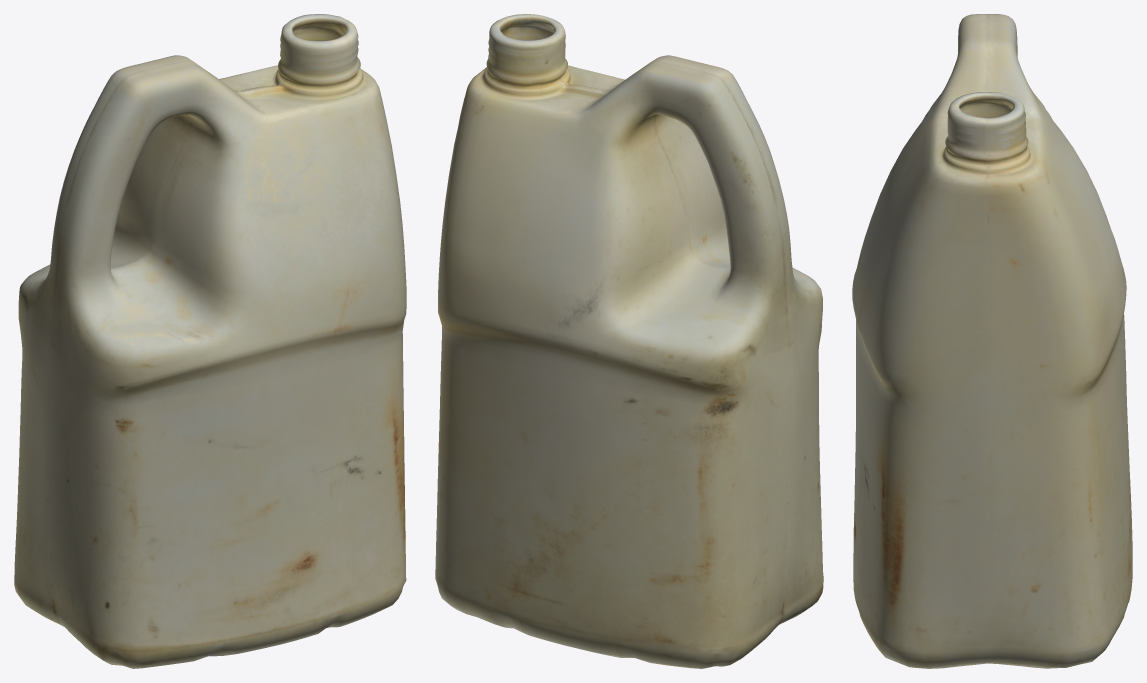
File: plastic_bottle_gallon.glb
3 views of the same model, side by side, from view 1: azimuth 30°, elevation 25°; view 2: azimuth 150°, elevation 25°; view 3: azimuth 270°, elevation 25° (orthographic).
Parts seen in each view (by area): view 1: plastic_bottle_gallon; view 2: plastic_bottle_gallon; view 3: plastic_bottle_gallon.
Boxes of the visible parts, x1,y1,x2,y2 form: plastic_bottle_gallon: (14, 14, 406, 668); plastic_bottle_gallon: (435, 14, 823, 668); plastic_bottle_gallon: (852, 14, 1132, 668).
Bounding box in the file's own units: 0.1663 × 0.2745 × 0.1263.
1 material, 1 textured.
